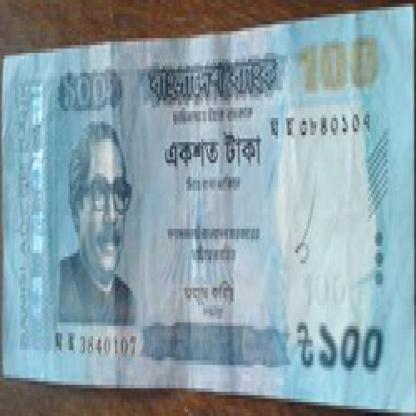one hundred taka: (293, 301, 396, 384), (293, 38, 386, 97), (52, 62, 133, 122)
